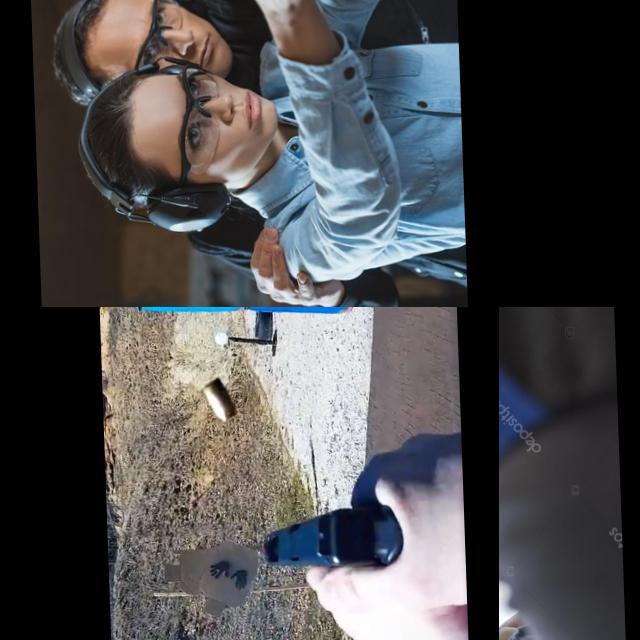handgun: (255, 498, 404, 574), (160, 0, 266, 93)
